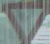Give way: (5, 0, 45, 42)
